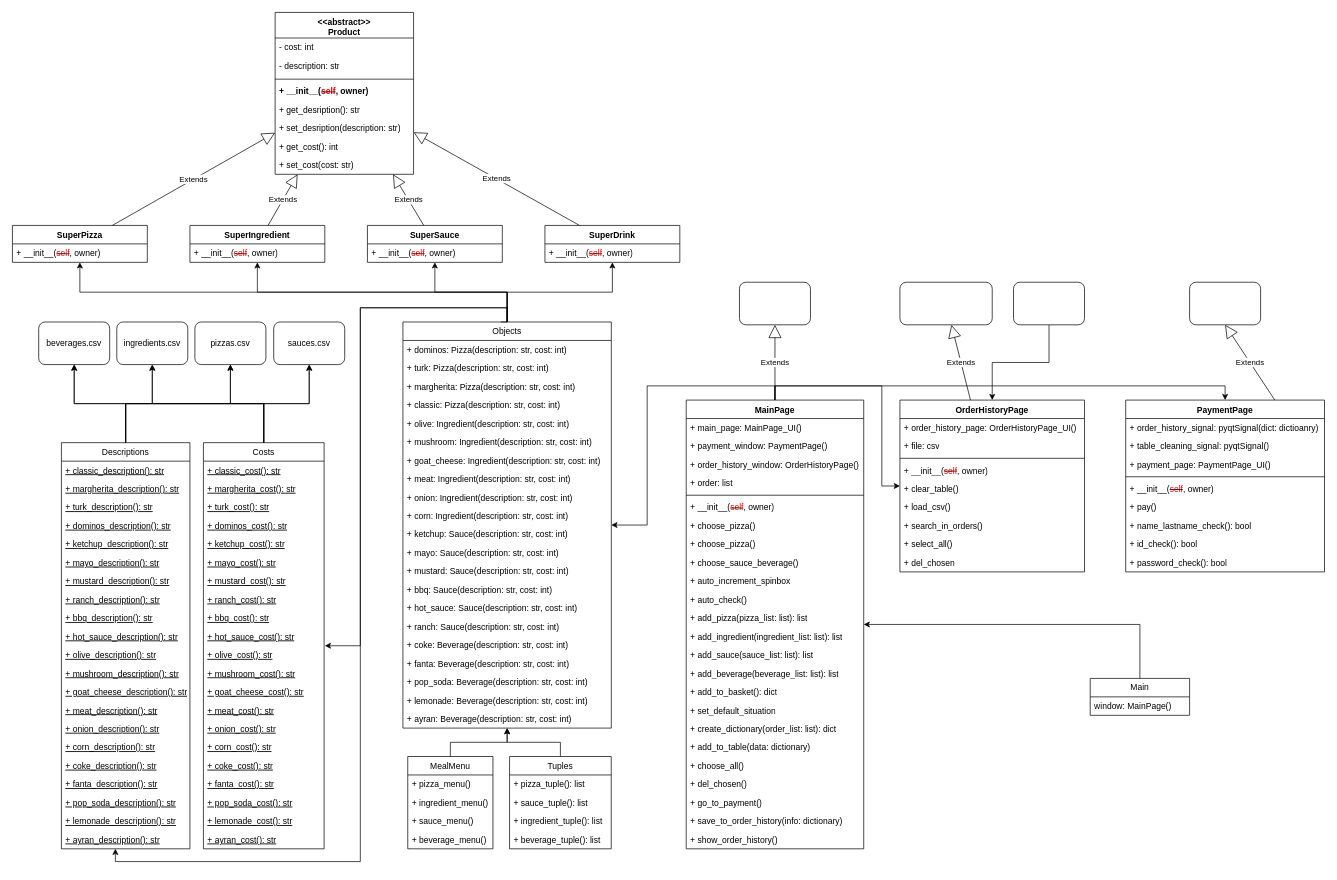
Image size: 1337x880. Some labels were removed from this diagram. The centre of each missing label's shape, as x and y in pixels:
MainPage_UI: point 774,303
order_history.csv: point 1049,303
OrderHistoryPage_UI: point 945,303
PaymentPage_UI: point 1225,303
